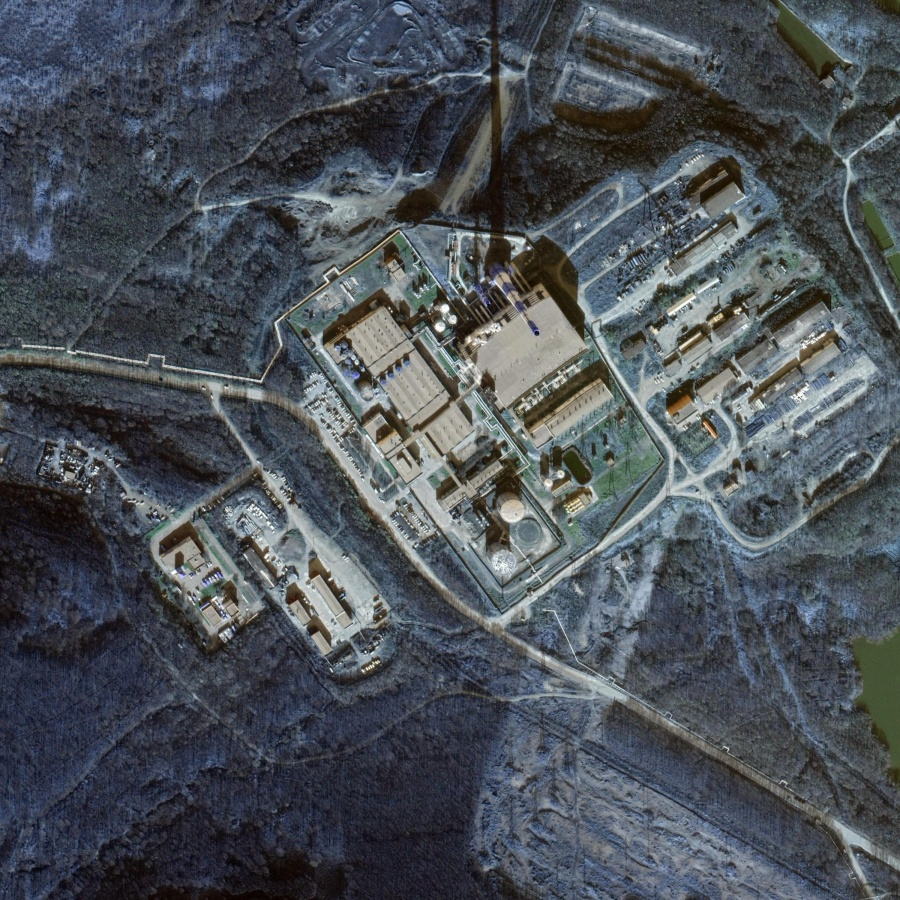PowerPlant: (321, 215, 636, 579)
